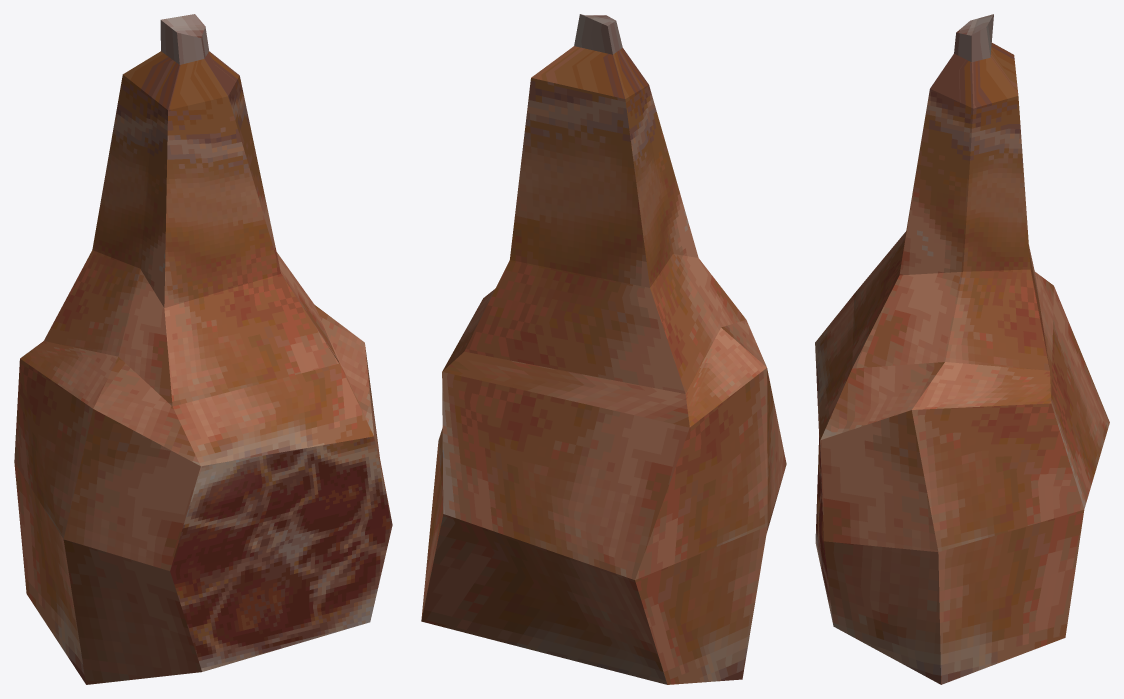
The model's file is pork_leg.glb.
3 renders of one model, left to right at view 1: azimuth 30°, elevation 25°; view 2: azimuth 150°, elevation 25°; view 3: azimuth 270°, elevation 25°, orthographic. The views are drawn at different scales.
Parts seen in each view (by area): view 1: pork_leg; view 2: pork_leg; view 3: pork_leg.
Boxes of the visible parts, <box> form: pork_leg: <box>14,14,392,684</box>; pork_leg: <box>421,14,786,684</box>; pork_leg: <box>815,14,1109,684</box>.
Size of the model in its own units: 0.5001 by 0.9407 by 0.4189.
Materials: 1 (1 with a texture image).
